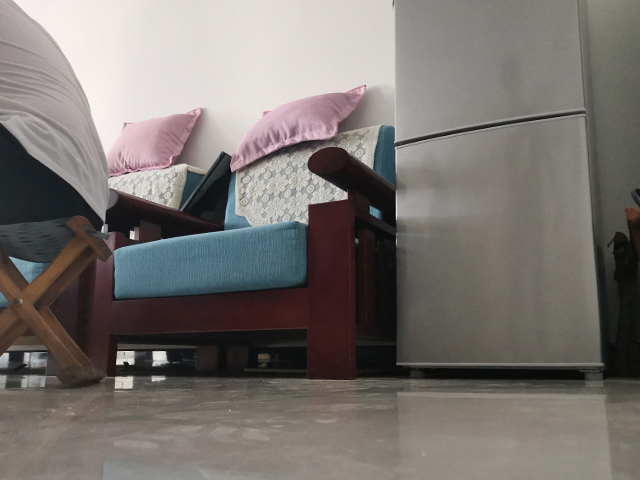sofa: (106, 122, 396, 382)
stool: (1, 213, 116, 388)
